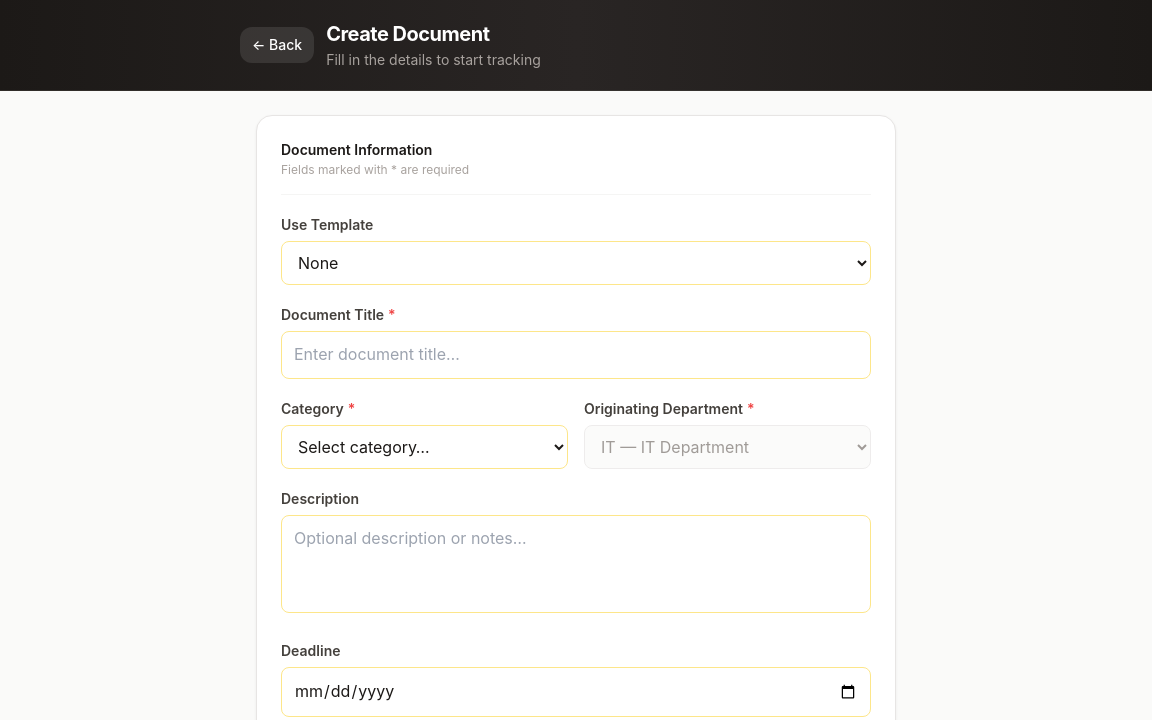
Test: DocumentCreatePage – template selector pre-populates form › pre-populates the title field with the template title_prefix when a template is selected
Select "Standard Memo" in the dropdown labelled "Use Template" at {"x": 576, "y": 263}, box [281,241,871,285]
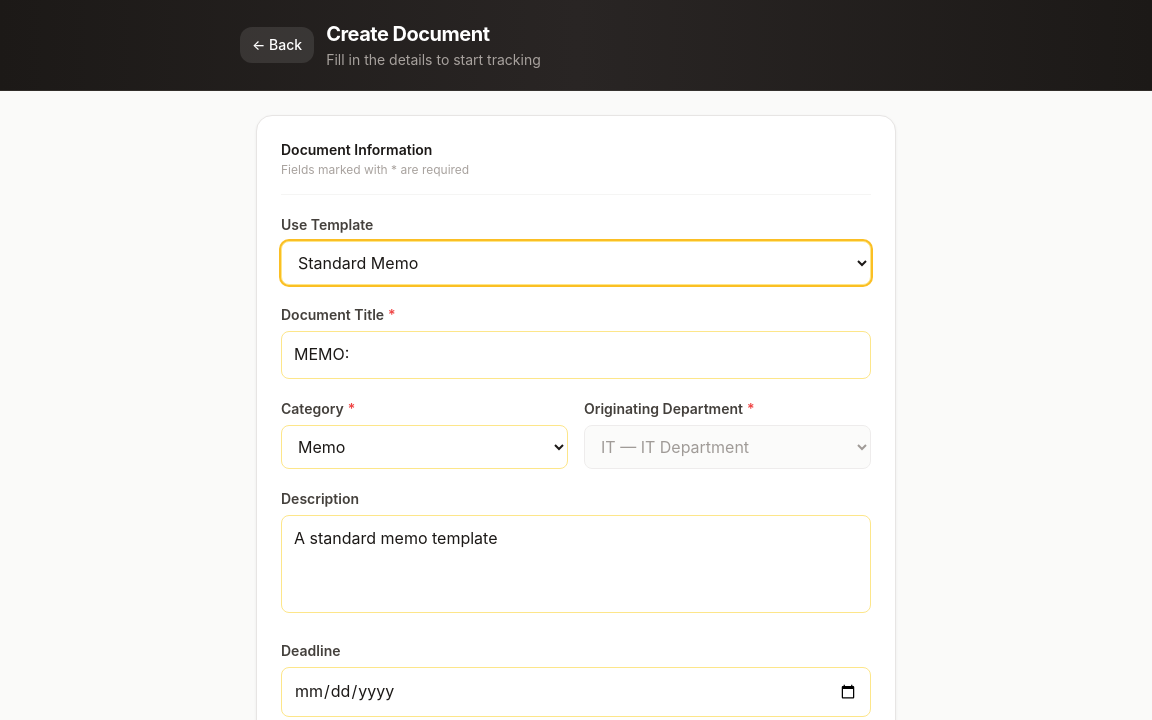
Check: the field labelled "Document Title*" holds "MEMO:", box [281,331,871,379]
